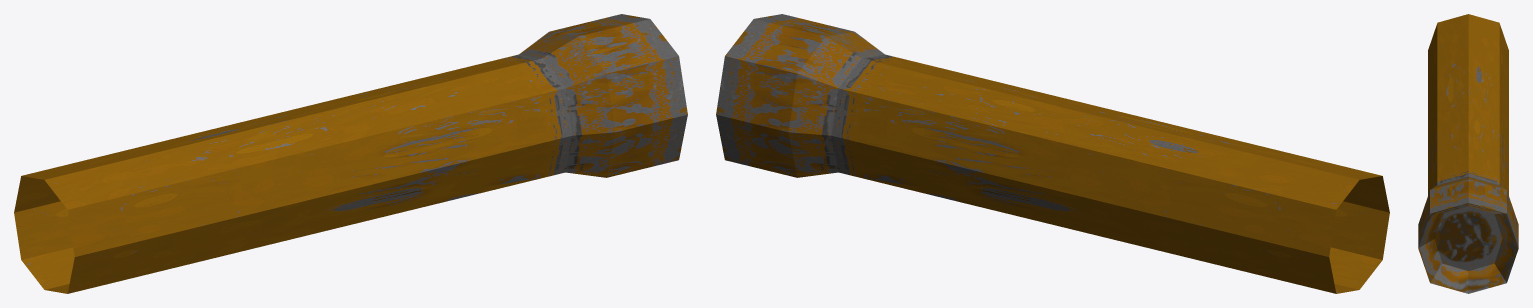
The model's file is pipe_small_pipe.fbx.
3 renders of one model, left to right at view 1: azimuth 30°, elevation 25°; view 2: azimuth 150°, elevation 25°; view 3: azimuth 270°, elevation 25°, orthographic. The views are drawn at different scales.
Parts seen in each view (by area): view 1: Cube.025; view 2: Cube.025; view 3: Cube.025.
Boxes of the visible parts, x1,y1,x2,y2 form: Cube.025: (14,14,687,293); Cube.025: (716,14,1389,293); Cube.025: (1418,14,1518,293).
Size of the model in its own units: 320 by 68.86 by 68.86.
